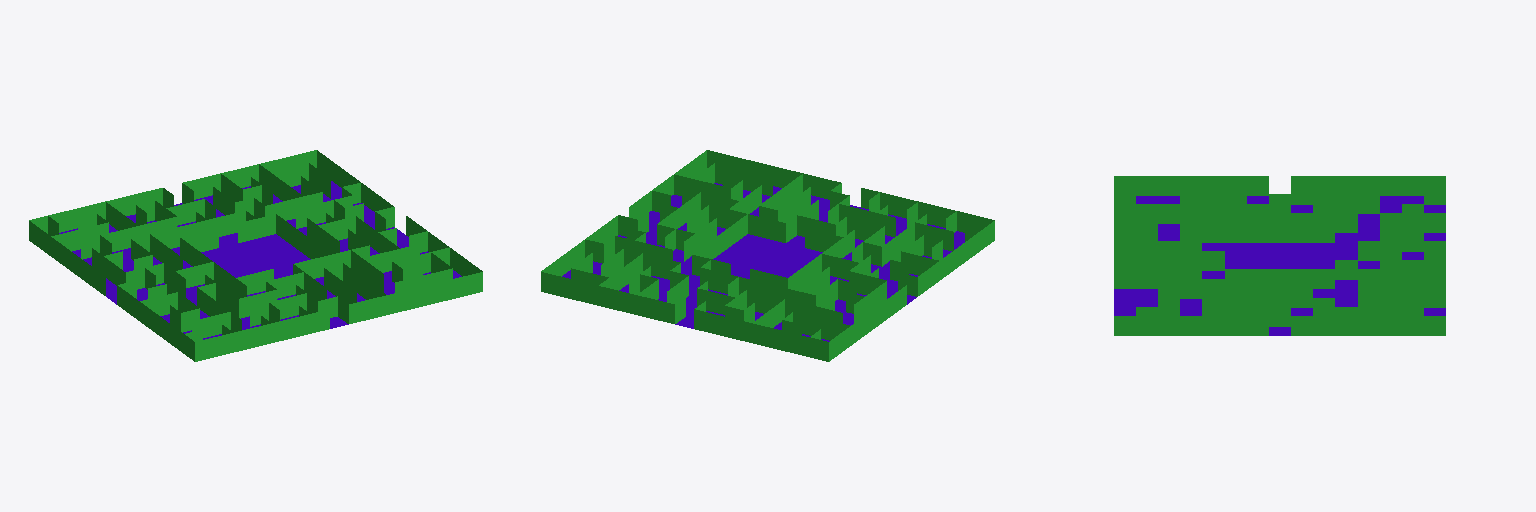
Rendered from maze3.obj.
3 views of the same model, side by side, from view 1: azimuth 30°, elevation 25°; view 2: azimuth 150°, elevation 25°; view 3: azimuth 270°, elevation 25° (orthographic).
Visible parts, largest first — view 1: Floor; view 2: Floor; view 3: Floor.
Boxes of the visible parts, box(x1,y1,x2,y2) form: Floor: box(29, 150, 482, 361); Floor: box(541, 150, 994, 361); Floor: box(1114, 176, 1445, 335).
Size of the model in its own units: 150 by 10 by 150.